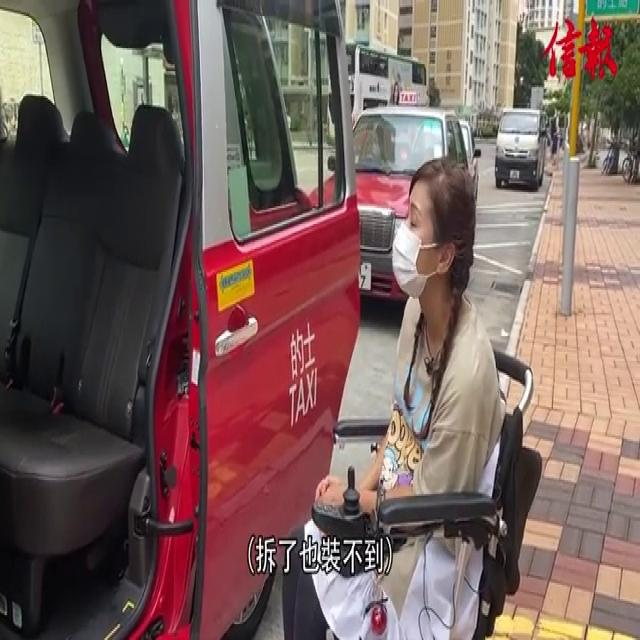wheelchairs: (305, 311, 551, 640)
